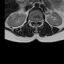CCS_normal: (35, 18, 36, 26)
LFS_stenosis: (38, 18, 40, 23)
LLS_normal: (36, 18, 38, 23)
RFS_stenosis: (31, 18, 33, 23)
RLS_normal: (33, 18, 35, 24)
